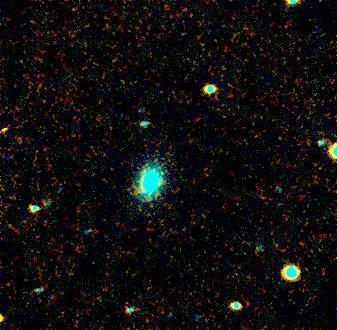star: (0, 114, 22, 144)
